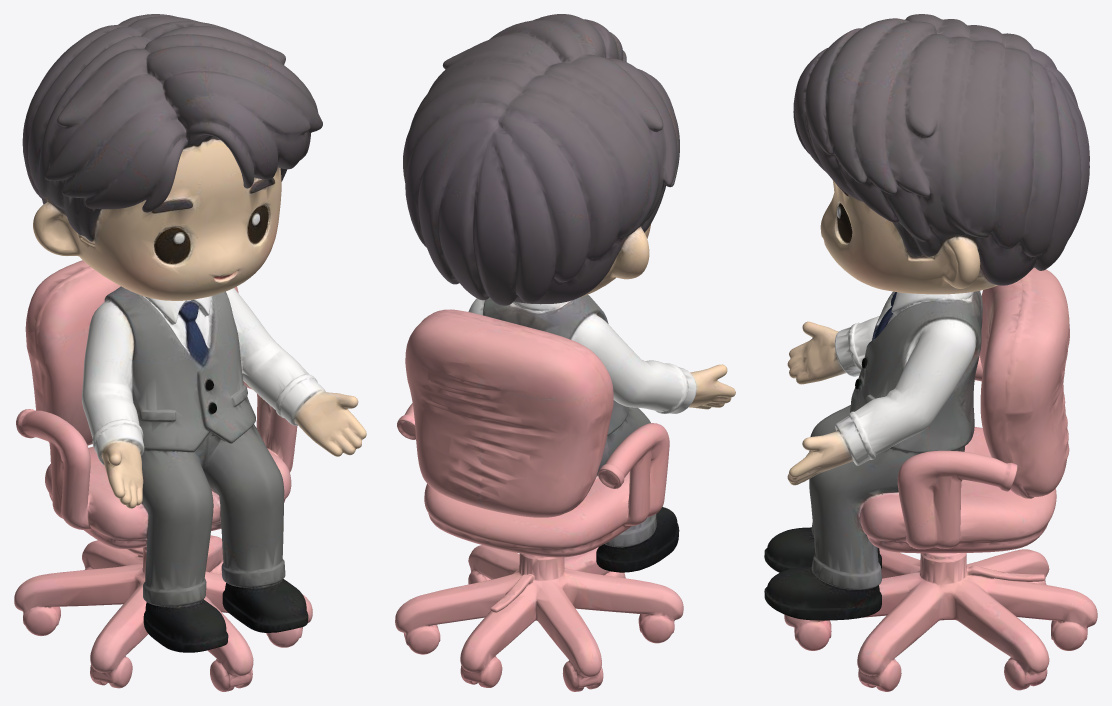
The model's file is seat_manager_v2.glb.
3 renders of one model, left to right at view 1: azimuth 30°, elevation 25°; view 2: azimuth 150°, elevation 25°; view 3: azimuth 270°, elevation 25°, orthographic. The views are drawn at different scales.
Size of the model in its own units: 0.8287 by 1.9 by 0.9255.
Materials: 1 (1 with a texture image).
